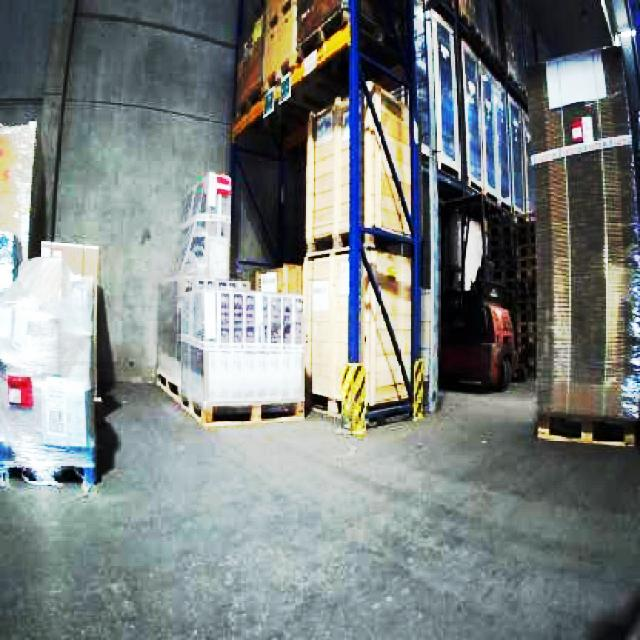ground: (0, 372, 638, 638)
pallet: (231, 0, 534, 426), (528, 43, 638, 448), (302, 78, 422, 420), (154, 171, 306, 425), (0, 238, 100, 492), (302, 245, 414, 414), (305, 82, 415, 251), (175, 285, 305, 425), (0, 228, 20, 488)
